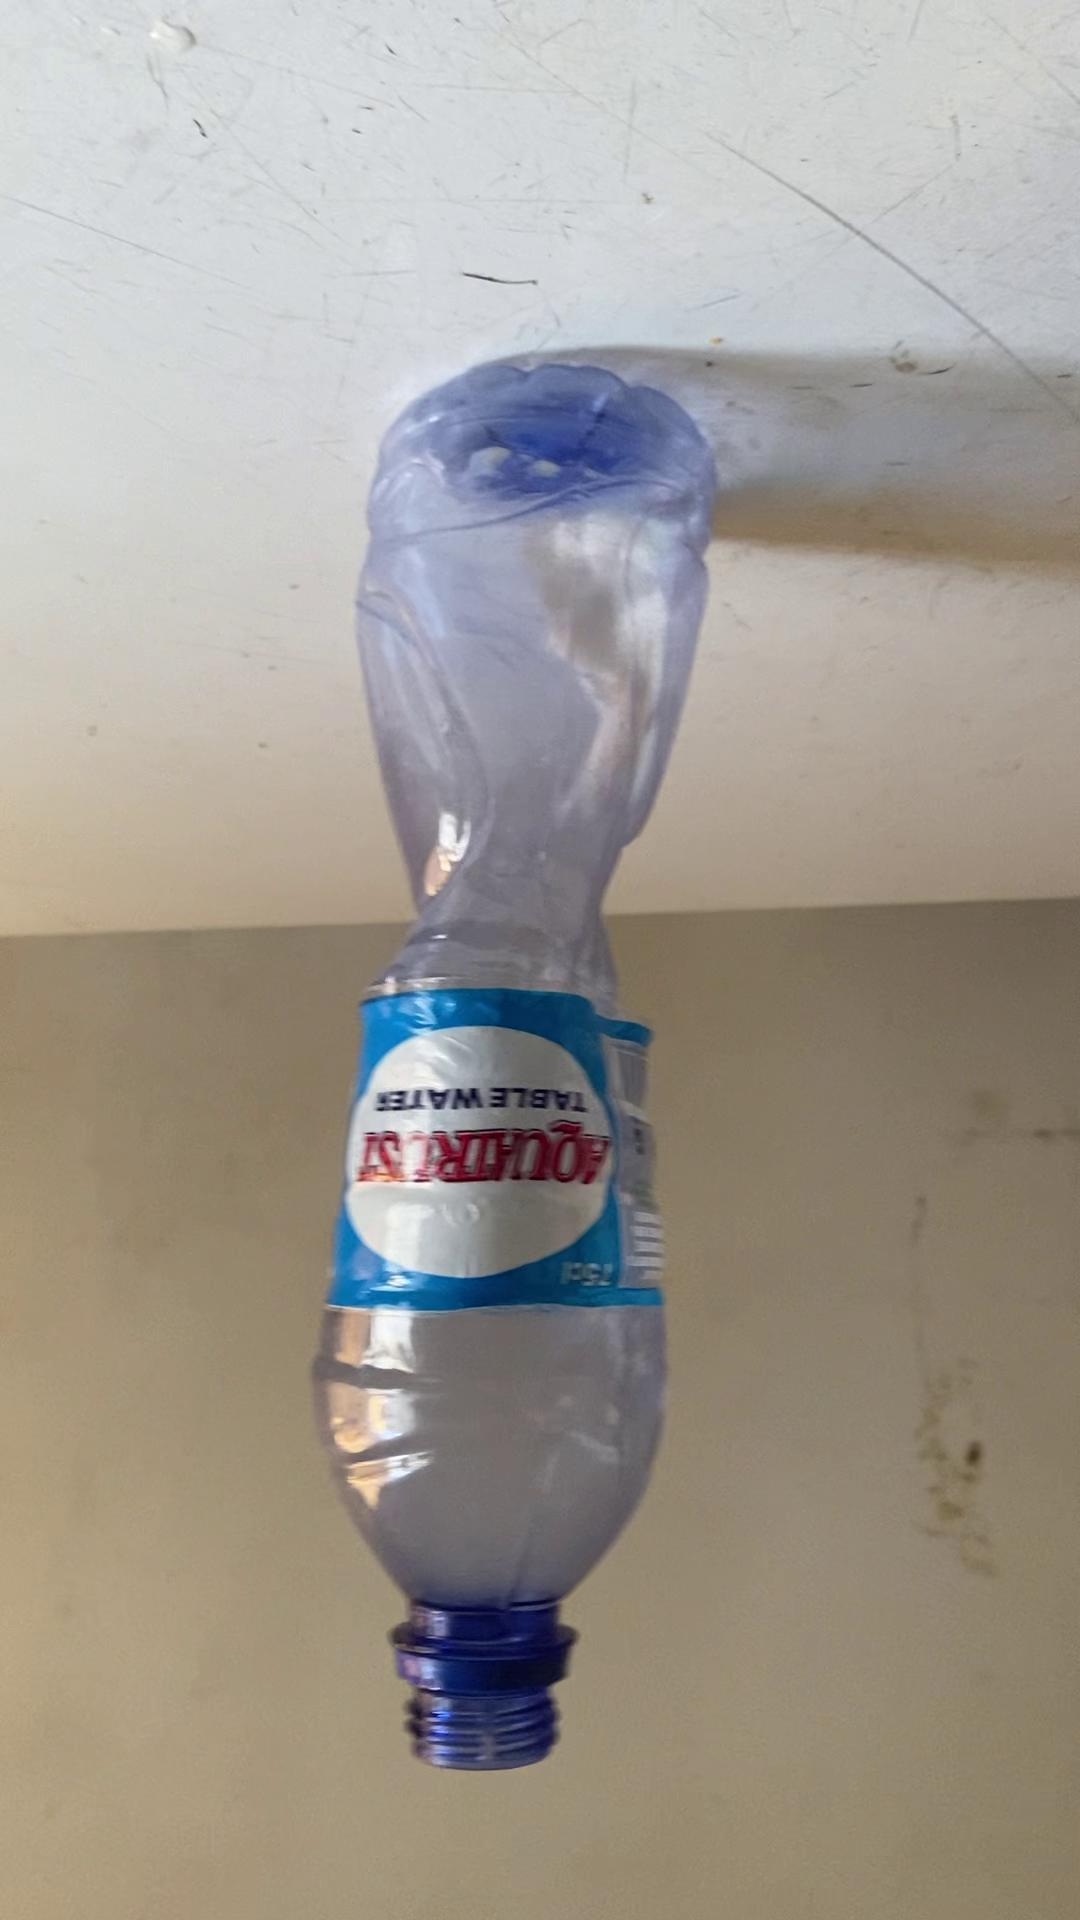crumbled: (303, 353, 720, 1783)
label: (342, 992, 655, 1309)
no-cap: (397, 1650, 568, 1775)
